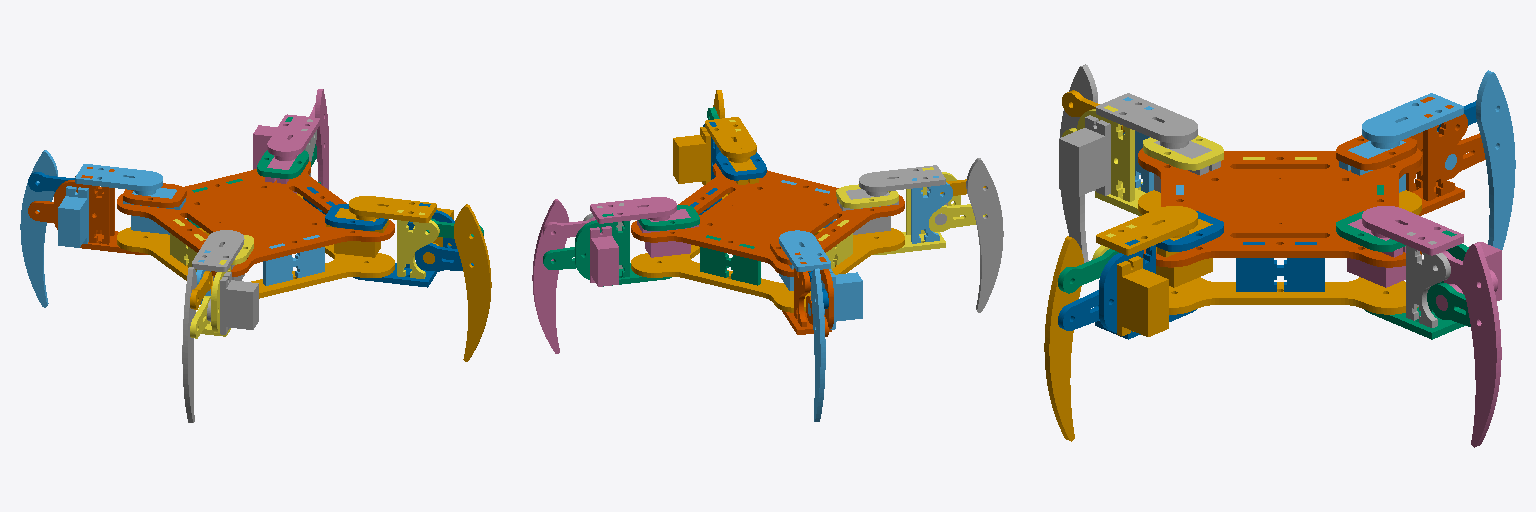
--- Render facts (derived) ---
The picture shows the robot from 3 angles, left to right: view 1: azimuth 30°, elevation 25°; view 2: azimuth 150°, elevation 25°; view 3: azimuth 270°, elevation 25°; orthographic projection.
Model quadruped with 46 links and 45 joints (24 continuous, 21 fixed), rooted at base_link, posed all joints at 0.
Visible links, largest first — view 1: body_top_plate_v11, base_link, leg_rev_v13, leg_rev_v14, servo_motor_v16, servo_motor_v18, leg_top_pivot_plate_v14, leg_top_pivot_plate_v13, body_spacer_v11, leg_parallel_plate_v13, leg_servo_mount_v14, leg_rev_v12 (+14 smaller); view 2: body_top_plate_v11, base_link, leg_rev_v12, leg_rev_v11, servo_motor_v17, leg_rev_v14, servo_motor_v15, leg_top_pivot_plate_v11, leg_top_pivot_plate_v12, leg_parallel_plate_v12, body_spacer_v12, leg_servo_mount_v11 (+14 smaller); view 3: body_top_plate_v11, base_link, leg_rev_v11, leg_rev_v14, leg_rev_v13, servo_motor_v16, servo_motor_v17, body_spacer_v14, leg_top_pivot_plate_v11, leg_top_pivot_plate_v13, leg_top_pivot_plate_v14, leg_top_pivot_plate_v12 (+22 smaller).
Link boxes in pixels (x1,y1,x2,y2): body_top_plate_v11: (117,161,394,276); base_link: (117,193,394,304); leg_rev_v13: (454,204,491,361); leg_rev_v14: (20,150,57,307); servo_motor_v16: (207,272,258,334); servo_motor_v18: (58,186,88,247); leg_top_pivot_plate_v14: (75,164,162,190); leg_top_pivot_plate_v13: (349,196,436,222); body_spacer_v11: (263,235,324,285); leg_parallel_plate_v13: (397,210,439,278); leg_servo_mount_v14: (54,175,109,244); leg_rev_v12: (182,267,196,422); body_top_plate_v11: (631,163,904,276); base_link: (631,194,904,312); leg_rev_v12: (966,158,1003,312); leg_rev_v11: (532,199,568,353); servo_motor_v17: (673,127,710,184); leg_rev_v14: (811,268,825,421); servo_motor_v15: (590,226,618,286); leg_top_pivot_plate_v11: (590,197,676,223); leg_top_pivot_plate_v12: (859,165,945,191); leg_parallel_plate_v12: (911,176,952,243); body_spacer_v12: (700,235,760,285); leg_servo_mount_v11: (575,213,629,279); body_top_plate_v11: (1138,148,1421,267); base_link: (1138,190,1421,314); leg_rev_v11: (1462,242,1501,447); leg_rev_v14: (1476,70,1515,249); leg_rev_v13: (1044,236,1083,441); servo_motor_v16: (1059,115,1110,196); servo_motor_v17: (1117,256,1168,336); body_spacer_v14: (1236,242,1324,291); leg_top_pivot_plate_v11: (1362,206,1463,255); leg_top_pivot_plate_v13: (1096,206,1197,255); leg_top_pivot_plate_v14: (1362,93,1463,142); leg_top_pivot_plate_v12: (1096,93,1197,142).
Bounding box of the posed robot: 0.2024 × 0.2023 × 0.0962 m (x, y, z).
Meshes: 46 distinct files referenced, 46 mesh visuals loaded (46 binary STL).

The robot description file, URDF, robot "quadruped":
<?xml version="1.0" ?>
<robot name="quadruped">

<material name="silver">
  <color rgba="0.700 0.700 0.700 1.000"/>
</material>

<link name="base_link">
  <inertial>
    <origin rpy="0 0 0" xyz="9.059146598001685e-07 0.0015934023756066099 0.049996155576494214"/>
    <mass value="0.1660035395213305"/>
    <inertia ixx="0.00025709826617585223" ixy="4.218846787590979e-09" ixz="1.879354351720479e-20" iyy="0.0002571008959510167" iyz="-3.5575383784680614e-20" izz="0.0005139180584769373"/>
  </inertial>
  <visual>
    <origin rpy="0 0 0" xyz="0 0 0"/>
    <geometry>
      <mesh filename="package://quadruped_description/meshes/base_link.stl" scale="0.001 0.001 0.001"/>
    </geometry>
    <material name="silver"/>
    <material/>
  </visual>
  <collision>
    <origin rpy="0 0 0" xyz="9.059146598001685e-07 0.0015934023756066099 0.049996155576494214"/>
    <geometry>
      <box size="0.113187997 0.113187997 0.003188"/>
    </geometry>
  </collision>
</link>

<link name="body_spacer_v11">
  <inertial>
    <origin rpy="0 0 0" xyz="-2.3037127760971997e-17 3.4442350579921843e-07 0.0019124056524901095"/>
    <mass value="0.01987438429408557"/>
    <inertia ixx="9.045460492552543e-07" ixy="1.187813172238301e-22" ixz="3.208094714967838e-22" iyy="3.5199940199070806e-06" iyz="1.3552527156068805e-20" izz="2.6491024456185857e-06"/>
  </inertial>
  <visual>
    <origin rpy="0 0 0" xyz="0.0 0.041434 -0.05924"/>
    <geometry>
      <mesh filename="package://quadruped_description/meshes/body_spacer_v11.stl" scale="0.001 0.001 0.001"/>
    </geometry>
    <material name="silver"/>
    <material/>
  </visual>
  <collision>
    <origin rpy="0 0 0" xyz="-2.3037127760971997e-17 3.4442350579921843e-07 0.0019124056524901095"/>
    <geometry>
      <box size="0.03825 0.003188 0.019125"/>
    </geometry>
  </collision>
</link>

<link name="body_spacer_v12">
  <inertial>
    <origin rpy="0 0 0" xyz="-1.762479051592436e-17 0.08606284442350577 0.0019124056524901373"/>
    <mass value="0.01987438429408557"/>
    <inertia ixx="9.045460492552407e-07" ixy="1.1536192923691965e-22" ixz="1.9841293516984235e-22" iyy="3.5199940199070806e-06" iyz="6.776263578034403e-21" izz="2.649102445618572e-06"/>
  </inertial>
  <visual>
    <origin rpy="0 0 0" xyz="0.0 0.041434 -0.05924"/>
    <geometry>
      <mesh filename="package://quadruped_description/meshes/body_spacer_v12.stl" scale="0.001 0.001 0.001"/>
    </geometry>
    <material name="silver"/>
    <material/>
  </visual>
  <collision>
    <origin rpy="0 0 0" xyz="-1.762479051592436e-17 0.08606284442350577 0.0019124056524901373"/>
    <geometry>
      <box size="0.03825 0.003188 0.019125"/>
    </geometry>
  </collision>
</link>

<link name="body_spacer_v13">
  <inertial>
    <origin rpy="0 0 0" xyz="-0.04303125000000001 0.04303159442350578 0.0019124056524901165"/>
    <mass value="0.01987438429408557"/>
    <inertia ixx="3.5199940199070806e-06" ixy="2.117582368135751e-22" ixz="-6.776263578034403e-21" iyy="9.045460492552678e-07" iyz="-1.2705494208814505e-21" izz="2.649102445618572e-06"/>
  </inertial>
  <visual>
    <origin rpy="0 0 0" xyz="0.0 0.041434 -0.05924"/>
    <geometry>
      <mesh filename="package://quadruped_description/meshes/body_spacer_v13.stl" scale="0.001 0.001 0.001"/>
    </geometry>
    <material name="silver"/>
    <material/>
  </visual>
  <collision>
    <origin rpy="0 0 0" xyz="-0.04303125000000001 0.04303159442350578 0.0019124056524901165"/>
    <geometry>
      <box size="0.003188 0.03825 0.019125"/>
    </geometry>
  </collision>
</link>

<link name="body_spacer_v14">
  <inertial>
    <origin rpy="0 0 0" xyz="0.04303124999999997 0.04303159442350577 0.0019124056524901165"/>
    <mass value="0.01987438429408557"/>
    <inertia ixx="3.5199940199070806e-06" ixy="4.235164736271502e-22" ixz="0.0" iyy="9.045460492552543e-07" iyz="-1.2705494208814505e-21" izz="2.6491024456185653e-06"/>
  </inertial>
  <visual>
    <origin rpy="0 0 0" xyz="0.0 0.041434 -0.05924"/>
    <geometry>
      <mesh filename="package://quadruped_description/meshes/body_spacer_v14.stl" scale="0.001 0.001 0.001"/>
    </geometry>
    <material name="silver"/>
    <material/>
  </visual>
  <collision>
    <origin rpy="0 0 0" xyz="0.04303124999999997 0.04303159442350577 0.0019124056524901165"/>
    <geometry>
      <box size="0.003188 0.03825 0.019125"/>
    </geometry>
  </collision>
</link>

<link name="body_top_plate_v11">
  <inertial>
    <origin rpy="0 0 0" xyz="-6.217287019304255e-06 -7.919011395336392e-07 -0.0015933444235057687"/>
    <mass value="0.2442521638475155"/>
    <inertia ixx="0.00024636058368875027" ixy="-1.5462840425163707e-08" ixz="3.801060350803673e-20" iyy="0.00023570693205579888" iyz="-2.0328790734103208e-20" izz="0.0004816539090530351"/>
  </inertial>
  <visual>
    <origin rpy="0 0 0" xyz="1e-05 -0.001603 -0.073902"/>
    <geometry>
      <mesh filename="package://quadruped_description/meshes/body_top_plate_v11.stl" scale="0.001 0.001 0.001"/>
    </geometry>
    <material name="silver"/>
    <material/>
  </visual>
  <collision>
    <origin rpy="0 0 0" xyz="-6.217287019304255e-06 -7.919011395336392e-07 -0.0015933444235057687"/>
    <geometry>
      <box size="0.113187997 0.113187997 0.003188"/>
    </geometry>
  </collision>
</link>

<link name="servo_motor_v11">
  <inertial>
    <origin rpy="0 0 0" xyz="-0.0034453069163115357 -0.003444709272821242 -0.017291510897469234"/>
    <mass value="0.008039754705757893"/>
    <inertia ixx="6.933505671789865e-07" ixy="-1.5816887278955772e-07" ixz="-3.5143282431257484e-08" iyy="6.933505682155583e-07" iyz="-3.514328063131586e-08" izz="5.198658008256423e-07"/>
  </inertial>
  <visual>
    <origin rpy="0 0 0" xyz="-0.045406 -0.047003 -0.088004"/>
    <geometry>
      <mesh filename="package://quadruped_description/meshes/servo_motor_v11.stl" scale="0.001 0.001 0.001"/>
    </geometry>
    <material name="silver"/>
    <material/>
  </visual>
  <collision>
    <origin rpy="0 0 0" xyz="-0.045406 -0.047003 -0.088004"/>
    <geometry>
      <mesh filename="package://quadruped_description/meshes/servo_motor_v11.stl" scale="0.001 0.001 0.001"/>
    </geometry>
  </collision>
</link>

<link name="servo_motor_v12">
  <inertial>
    <origin rpy="0 0 0" xyz="-0.08736671792043224 -0.08736325662822253 -0.017291510897469248"/>
    <mass value="0.008039754705757893"/>
    <inertia ixx="6.933505671789865e-07" ixy="-1.5816887278954925e-07" ixz="3.5143282431257484e-08" iyy="6.933505682155651e-07" iyz="3.514328063131247e-08" izz="5.198658008256288e-07"/>
  </inertial>
  <visual>
    <origin rpy="0 0 0" xyz="-0.045406 -0.047003 -0.088004"/>
    <geometry>
      <mesh filename="package://quadruped_description/meshes/servo_motor_v12.stl" scale="0.001 0.001 0.001"/>
    </geometry>
    <material name="silver"/>
    <material/>
  </visual>
  <collision>
    <origin rpy="0 0 0" xyz="-0.045406 -0.047003 -0.088004"/>
    <geometry>
      <mesh filename="package://quadruped_description/meshes/servo_motor_v12.stl" scale="0.001 0.001 0.001"/>
    </geometry>
  </collision>
</link>

<link name="servo_motor_v13">
  <inertial>
    <origin rpy="0 0 0" xyz="-0.0034453067361639236 -0.08736610170001957 -0.01729151089746929"/>
    <mass value="0.008039754705757893"/>
    <inertia ixx="6.933505682155583e-07" ixy="1.581688727895594e-07" ixz="-3.514328063131586e-08" iyy="6.933505671789865e-07" iyz="3.514328243126087e-08" izz="5.198658008256423e-07"/>
  </inertial>
  <visual>
    <origin rpy="0 0 0" xyz="-0.045406 -0.047003 -0.088004"/>
    <geometry>
      <mesh filename="package://quadruped_description/meshes/servo_motor_v13.stl" scale="0.001 0.001 0.001"/>
    </geometry>
    <material name="silver"/>
    <material/>
  </visual>
  <collision>
    <origin rpy="0 0 0" xyz="-0.045406 -0.047003 -0.088004"/>
    <geometry>
      <mesh filename="package://quadruped_description/meshes/servo_motor_v13.stl" scale="0.001 0.001 0.001"/>
    </geometry>
  </collision>
</link>

<link name="servo_motor_v14">
  <inertial>
    <origin rpy="0 0 0" xyz="-0.08736671810057986 -0.0035677266622682127 -0.017291510897469248"/>
    <mass value="0.008039754705757893"/>
    <inertia ixx="6.933505682155447e-07" ixy="1.5816887278955433e-07" ixz="3.514328063131586e-08" iyy="6.933505671789865e-07" iyz="-3.5143282431257484e-08" izz="5.198658008256389e-07"/>
  </inertial>
  <visual>
    <origin rpy="0 0 0" xyz="-0.045406 -0.047003 -0.088004"/>
    <geometry>
      <mesh filename="package://quadruped_description/meshes/servo_motor_v14.stl" scale="0.001 0.001 0.001"/>
    </geometry>
    <material name="silver"/>
    <material/>
  </visual>
  <collision>
    <origin rpy="0 0 0" xyz="-0.045406 -0.047003 -0.088004"/>
    <geometry>
      <mesh filename="package://quadruped_description/meshes/servo_motor_v14.stl" scale="0.001 0.001 0.001"/>
    </geometry>
  </collision>
</link>

<link name="leg_servo_retainer_v11">
  <inertial>
    <origin rpy="0 0 0" xyz="0.007924108380789864 0.007923419580222718 -3.4442350579921843e-07"/>
    <mass value="0.011735752466802122"/>
    <inertia ixx="1.0587162227223e-06" ixy="-2.4853849465264854e-07" ixz="-6.776263578034403e-21" iyy="1.0584789299731293e-06" iyz="0.0" izz="2.0973223062330845e-06"/>
  </inertial>
  <visual>
    <origin rpy="0 0 0" xyz="-0.033325 -0.034922 -0.078684"/>
    <geometry>
      <mesh filename="package://quadruped_description/meshes/leg_servo_retainer_v11.stl" scale="0.001 0.001 0.001"/>
    </geometry>
    <material name="silver"/>
    <material/>
  </visual>
  <collision>
    <origin rpy="0 0 0" xyz="-0.033325 -0.034922 -0.078684"/>
    <geometry>
      <mesh filename="package://quadruped_description/meshes/leg_servo_retainer_v11.stl" scale="0.001 0.001 0.001"/>
    </geometry>
  </collision>
</link>

<link name="leg_servo_retainer_v12">
  <inertial>
    <origin rpy="0 0 0" xyz="-0.07457413321753362 -0.07456938548126654 -3.444235058408518e-07"/>
    <mass value="0.011735752466802122"/>
    <inertia ixx="1.0587162227223136e-06" ixy="-2.485384946526519e-07" ixz="0.0" iyy="1.0584789299731293e-06" iyz="-6.776263578034403e-21" izz="2.0973223062330845e-06"/>
  </inertial>
  <visual>
    <origin rpy="0 0 0" xyz="-0.033325 -0.034922 -0.078684"/>
    <geometry>
      <mesh filename="package://quadruped_description/meshes/leg_servo_retainer_v12.stl" scale="0.001 0.001 0.001"/>
    </geometry>
    <material name="silver"/>
    <material/>
  </visual>
  <collision>
    <origin rpy="0 0 0" xyz="-0.033325 -0.034922 -0.078684"/>
    <geometry>
      <mesh filename="package://quadruped_description/meshes/leg_servo_retainer_v12.stl" scale="0.001 0.001 0.001"/>
    </geometry>
  </collision>
</link>

<link name="leg_servo_retainer_v13">
  <inertial>
    <origin rpy="0 0 0" xyz="0.007922822116880023 -0.07457351699712099 -3.444235058547296e-07"/>
    <mass value="0.011735752466802122"/>
    <inertia ixx="1.0584789299731428e-06" ixy="2.485384946526519e-07" ixz="0.0" iyy="1.0587162227222865e-06" iyz="-6.776263578034403e-21" izz="2.0973223062330912e-06"/>
  </inertial>
  <visual>
    <origin rpy="0 0 0" xyz="-0.033325 -0.034922 -0.078684"/>
    <geometry>
      <mesh filename="package://quadruped_description/meshes/leg_servo_retainer_v13.stl" scale="0.001 0.001 0.001"/>
    </geometry>
    <material name="silver"/>
    <material/>
  </visual>
  <collision>
    <origin rpy="0 0 0" xyz="-0.033325 -0.034922 -0.078684"/>
    <geometry>
      <mesh filename="package://quadruped_description/meshes/leg_servo_retainer_v13.stl" scale="0.001 0.001 0.001"/>
    </geometry>
  </collision>
</link>

<link name="leg_servo_retainer_v14">
  <inertial>
    <origin rpy="0 0 0" xyz="-0.07457284695362379 0.007801688634833152 -3.444235058130962e-07"/>
    <mass value="0.011735752466802122"/>
    <inertia ixx="1.0584789299731157e-06" ixy="2.4853849465264515e-07" ixz="0.0" iyy="1.0587162227222594e-06" iyz="0.0" izz="2.0973223062330777e-06"/>
  </inertial>
  <visual>
    <origin rpy="0 0 0" xyz="-0.033325 -0.034922 -0.078684"/>
    <geometry>
      <mesh filename="package://quadruped_description/meshes/leg_servo_retainer_v14.stl" scale="0.001 0.001 0.001"/>
    </geometry>
    <material name="silver"/>
    <material/>
  </visual>
  <collision>
    <origin rpy="0 0 0" xyz="-0.033325 -0.034922 -0.078684"/>
    <geometry>
      <mesh filename="package://quadruped_description/meshes/leg_servo_retainer_v14.stl" scale="0.001 0.001 0.001"/>
    </geometry>
  </collision>
</link>

<link name="leg_top_pivot_plate_v11">
  <inertial>
    <origin rpy="0 0 0" xyz="0.010648424399168653 0.010577698071700968 -0.0015938444235058108"/>
    <mass value="0.020723046160568363"/>
    <inertia ixx="2.208794909615877e-06" ixy="-1.4903944877974097e-06" ixz="-2.710505431213761e-20" iyy="2.2591948027366653e-06" iyz="-1.3552527156068805e-20" izz="4.432898147857994e-06"/>
  </inertial>
  <visual>
    <origin rpy="0 0 0" xyz="-0.045406 -0.047003 -0.088004"/>
    <geometry>
      <mesh filename="package://quadruped_description/meshes/leg_top_pivot_plate_v11.stl" scale="0.001 0.001 0.001"/>
    </geometry>
    <material name="silver"/>
    <material/>
  </visual>
  <collision>
    <origin rpy="0 0 0.785398163" xyz="0.010648424399168653 0.010577698071700968 -0.0015938444235058108"/>
    <geometry>
     <box size="0.048442 0.02040  0.003188"/>
    </geometry>
  </collision>
</link>

<link name="leg_top_pivot_plate_v12">
  <inertial>
    <origin rpy="0 0 0" xyz="-0.10146044923591255 -0.1013856639727447 -0.0015938444235058524"/>
    <mass value="0.020723046160568363"/>
    <inertia ixx="2.2087949096158226e-06" ixy="-1.4903944877974097e-06" ixz="-2.710505431213761e-20" iyy="2.259194802736557e-06" iyz="-1.3552527156068805e-20" izz="4.432898147857967e-06"/>
  </inertial>
  <visual>
    <origin rpy="0 0 0" xyz="-0.045406 -0.047003 -0.088004"/>
    <geometry>
      <mesh filename="package://quadruped_description/meshes/leg_top_pivot_plate_v12.stl" scale="0.001 0.001 0.001"/>
    </geometry>
    <material name="silver"/>
    <material/>
  </visual>
  <collision>
    <origin rpy="0 0 0.785398163" xyz="-0.10146044923591255 -0.1013856639727447 -0.0015938444235058524"/>
    <geometry>
      <box size="0.048442 0.02040  0.003188"/>
    </geometry>
  </collision>
</link>

<link name="leg_top_pivot_plate_v13">
  <inertial>
    <origin rpy="0 0 0" xyz="0.010577100608358335 -0.10145983301549982 -0.001593844423505894"/>
    <mass value="0.020723046160568363"/>
    <inertia ixx="2.2591948027366653e-06" ixy="1.4903944877974233e-06" ixz="0.0" iyy="2.208794909615931e-06" iyz="0.0" izz="4.432898147857967e-06"/>
  </inertial>
  <visual>
    <origin rpy="0 0 0" xyz="-0.045406 -0.047003 -0.088004"/>
    <geometry>
      <mesh filename="package://quadruped_description/meshes/leg_top_pivot_plate_v13.stl" scale="0.001 0.001 0.001"/>
    </geometry>
    <material name="silver"/>
    <material/>
  </visual>
  <collision>
    <origin rpy="0 0 -0.785398163" xyz="0.010577100608358335 -0.10145983301549982 -0.001593844423505894"/>
    <geometry>
      <box size="0.048442 0.02040  0.003188"/>
    </geometry>
  </collision>
</link>

<link name="leg_top_pivot_plate_v14">
  <inertial>
    <origin rpy="0 0 0" xyz="-0.10138912544510212 0.010526004653212018 -0.0015938444235058247"/>
    <mass value="0.020723046160568363"/>
    <inertia ixx="2.2591948027367195e-06" ixy="1.4903944877974233e-06" ixz="2.710505431213761e-20" iyy="2.208794909615931e-06" iyz="0.0" izz="4.432898147857994e-06"/>
  </inertial>
  <visual>
    <origin rpy="0 0 0" xyz="-0.045406 -0.047003 -0.088004"/>
    <geometry>
      <mesh filename="package://quadruped_description/meshes/leg_top_pivot_plate_v14.stl" scale="0.001 0.001 0.001"/>
    </geometry>
    <material name="silver"/>
    <material/>
  </visual>
  <collision>
    <origin rpy="0 0 -0.785398163" xyz="-0.10138912544510212 0.010526004653212018 -0.0015938444235058247"/>
    <geometry>
      <box size="0.048442 0.02040  0.003188"/>
    </geometry>
  </collision>
</link>

<link name="leg_servo_mount_v11">
  <inertial>
    <origin rpy="0 0 0" xyz="0.006427091482037052 0.006426612462751641 -0.009351515125044133"/>
    <mass value="0.018978192167657257"/>
    <inertia ixx="3.4099288150504596e-06" ixy="-8.932533906415378e-07" ixz="-2.5996070057598855e-08" iyy="3.4099288150504867e-06" iyz="-2.599607005762596e-08" izz="1.818643680910739e-06"/>
  </inertial>
  <visual>
    <origin rpy="0 0 0" xyz="-0.058289 -0.069083 -0.076529"/>
    <geometry>
      <mesh filename="package://quadruped_description/meshes/leg_servo_mount_v11.stl" scale="0.001 0.001 0.001"/>
    </geometry>
    <material name="silver"/>
    <material/>
  </visual>
  <collision>
    <origin rpy="0 0 0" xyz="-0.058289 -0.069083 -0.076529"/>
    <geometry>
      <mesh filename="package://quadruped_description/meshes/leg_servo_mount_v11.stl" scale="0.001 0.001 0.001"/>
    </geometry>
  </collision>
</link>

<link name="leg_servo_mount_v12">
  <inertial>
    <origin rpy="0 0 0" xyz="-0.12300511631878094 -0.14139457836379538 -0.009351515125044202"/>
    <mass value="0.018978192167657257"/>
    <inertia ixx="3.4099288150504867e-06" ixy="-8.932533906415378e-07" ixz="2.5996070057612407e-08" iyy="3.4099288150504596e-06" iyz="2.599607005762596e-08" izz="1.818643680910739e-06"/>
  </inertial>
  <visual>
    <origin rpy="0 0 0" xyz="-0.058289 -0.069083 -0.076529"/>
    <geometry>
      <mesh filename="package://quadruped_description/meshes/leg_servo_mount_v12.stl" scale="0.001 0.001 0.001"/>
    </geometry>
    <material name="silver"/>
    <material/>
  </visual>
  <collision>
    <origin rpy="0 0 0" xyz="-0.058289 -0.069083 -0.076529"/>
    <geometry>
      <mesh filename="package://quadruped_description/meshes/leg_servo_mount_v12.stl" scale="0.001 0.001 0.001"/>
    </geometry>
  </collision>
</link>

<link name="leg_servo_mount_v13">
  <inertial>
    <origin rpy="0 0 0" xyz="0.015623014999408984 -0.13220150009836815 -0.009351515125044257"/>
    <mass value="0.018978192167657257"/>
    <inertia ixx="3.4099288150504325e-06" ixy="8.932533906415242e-07" ixz="-2.5996070057612407e-08" iyy="3.4099288150504596e-06" iyz="2.5996070057612407e-08" izz="1.818643680910739e-06"/>
  </inertial>
  <visual>
    <origin rpy="0 0 0" xyz="-0.058289 -0.069083 -0.076529"/>
    <geometry>
      <mesh filename="package://quadruped_description/meshes/leg_servo_mount_v13.stl" scale="0.001 0.001 0.001"/>
    </geometry>
    <material name="silver"/>
    <material/>
  </visual>
  <collision>
    <origin rpy="0 0 0" xyz="-0.058289 -0.069083 -0.076529"/>
    <geometry>
      <mesh filename="package://quadruped_description/meshes/leg_servo_mount_v13.stl" scale="0.001 0.001 0.001"/>
    </geometry>
  </collision>
</link>

<link name="leg_servo_mount_v14">
  <inertial>
    <origin rpy="0 0 0" xyz="-0.132201039836153 -0.002892328263919511 -0.009351515125044133"/>
    <mass value="0.018978192167657257"/>
    <inertia ixx="3.4099288150504867e-06" ixy="8.932533906415242e-07" ixz="2.5996070057639513e-08" iyy="3.4099288150504867e-06" iyz="-2.5996070057639513e-08" izz="1.818643680910712e-06"/>
  </inertial>
  <visual>
    <origin rpy="0 0 0" xyz="-0.058289 -0.069083 -0.076529"/>
    <geometry>
      <mesh filename="package://quadruped_description/meshes/leg_servo_mount_v14.stl" scale="0.001 0.001 0.001"/>
    </geometry>
    <material name="silver"/>
    <material/>
  </visual>
  <collision>
    <origin rpy="0 0 0" xyz="-0.058289 -0.069083 -0.076529"/>
    <geometry>
      <mesh filename="package://quadruped_description/meshes/leg_servo_mount_v14.stl" scale="0.001 0.001 0.001"/>
    </geometry>
  </collision>
</link>

<link name="servo_motor_v15">
  <inertial>
    <origin rpy="0 0 0" xyz="0.027946655456124396 0.04841610817225183 -0.013934864453551216"/>
    <mass value="0.008039754705757893"/>
    <inertia ixx="6.856926219289921e-07" ixy="1.658268198306015e-07" ixz="3.5143281164800927e-08" iyy="6.856926193835023e-07" iyz="-3.5143281897775805e-08" izz="5.351816949077299e-07"/>
  </inertial>
  <visual>
    <origin rpy="0 0 0" xyz="-0.033325 -0.034922 -0.078684"/>
    <geometry>
      <mesh filename="package://quadruped_description/meshes/servo_motor_v15.stl" scale="0.001 0.001 0.001"/>
    </geometry>
    <material name="silver"/>
    <material/>
  </visual>
  <collision>
    <origin rpy="0 0 0" xyz="-0.033325 -0.034922 -0.078684"/>
    <geometry>
      <mesh filename="package://quadruped_description/meshes/servo_motor_v15.stl" scale="0.001 0.001 0.001"/>
    </geometry>
  </collision>
</link>

<link name="servo_motor_v16">
  <inertial>
    <origin rpy="0 0 0" xyz="-0.09459668029286844 -0.11506207407329555 -0.013934864453551313"/>
    <mass value="0.008039754705757893"/>
    <inertia ixx="6.856926219289921e-07" ixy="1.6582681983059474e-07" ixz="-3.5143281164800927e-08" iyy="6.856926193834752e-07" iyz="3.514328189776225e-08" izz="5.351816949077164e-07"/>
  </inertial>
  <visual>
    <origin rpy="0 0 0" xyz="-0.033325 -0.034922 -0.078684"/>
    <geometry>
      <mesh filename="package://quadruped_description/meshes/servo_motor_v16.stl" scale="0.001 0.001 0.001"/>
    </geometry>
    <material name="silver"/>
    <material/>
  </visual>
  <collision>
    <origin rpy="0 0 0" xyz="-0.033325 -0.034922 -0.078684"/>
    <geometry>
      <mesh filename="package://quadruped_description/meshes/servo_motor_v16.stl" scale="0.001 0.001 0.001"/>
    </geometry>
  </collision>
</link>

<link name="servo_motor_v17">
  <inertial>
    <origin rpy="0 0 0" xyz="0.048415510708909044 -0.09459606407245555 -0.013934864453551354"/>
    <mass value="0.008039754705757893"/>
    <inertia ixx="6.856926193835023e-07" ixy="-1.658268198306015e-07" ixz="-3.514328189776225e-08" iyy="6.85692621928965e-07" iyz="-3.5143281164800927e-08" izz="5.351816949077028e-07"/>
  </inertial>
  <visual>
    <origin rpy="0 0 0" xyz="-0.033325 -0.034922 -0.078684"/>
    <geometry>
      <mesh filename="package://quadruped_description/meshes/servo_motor_v17.stl" scale="0.001 0.001 0.001"/>
    </geometry>
    <material name="silver"/>
    <material/>
  </visual>
  <collision>
    <origin rpy="0 0 0" xyz="-0.033325 -0.034922 -0.078684"/>
    <geometry>
      <mesh filename="package://quadruped_description/meshes/servo_motor_v17.stl" scale="0.001 0.001 0.001"/>
    </geometry>
  </collision>
</link>

<link name="servo_motor_v18">
  <inertial>
    <origin rpy="0 0 0" xyz="-0.11506553554565327 0.027824235710167892 -0.013934864453551118"/>
    <mass value="0.008039754705757893"/>
    <inertia ixx="6.856926193834752e-07" ixy="-1.658268198306015e-07" ixz="3.514328189778258e-08" iyy="6.856926219289921e-07" iyz="3.5143281164800927e-08" izz="5.351816949077164e-07"/>
  </inertial>
  <visual>
    <origin rpy="0 0 0" xyz="-0.033325 -0.034922 -0.078684"/>
    <geometry>
      <mesh filename="package://quadruped_description/meshes/servo_motor_v18.stl" scale="0.001 0.001 0.001"/>
    </geometry>
    <material name="silver"/>
    <material/>
  </visual>
  <collision>
    <origin rpy="0 0 0" xyz="-0.033325 -0.034922 -0.078684"/>
    <geometry>
      <mesh filename="package://quadruped_description/meshes/servo_motor_v18.stl" scale="0.001 0.001 0.001"/>
    </geometry>
  </collision>
</link>

<link name="leg_servo_arm_v11">
  <inertial>
    <origin rpy="0 0 0" xyz="0.006854663369280534 0.009109263260319467 4.051724359702136e-07"/>
    <mass value="0.01005919143698447"/>
    <inertia ixx="7.37904947339249e-07" ixy="-5.760670437510195e-07" ixz="8.610598128608316e-17" iyy="7.379049473392083e-07" iyz="8.609242875892709e-17" izz="1.1691679136267982e-06"/>
  </inertial>
  <visual>
    <origin rpy="0 0 0" xyz="-0.073499 -0.071111 -0.059877"/>
    <geometry>
      <mesh filename="package://quadruped_description/meshes/leg_servo_arm_v11.stl" scale="0.001 0.001 0.001"/>
    </geometry>
    <material name="silver"/>
    <material/>
  </visual>
  <collision>
    <origin rpy="0 0 0" xyz="-0.073499 -0.071111 -0.059877"/>
    <geometry>
      <mesh filename="package://quadruped_description/meshes/leg_servo_arm_v11.stl" scale="0.001 0.001 0.001"/>
    </geometry>
  </collision>
</link>

<link name="leg_servo_arm_v12">
  <inertial>
    <origin rpy="0 0 0" xyz="-0.1515986882060246 -0.15038722916136313 4.051727157394769e-07"/>
    <mass value="0.01005919143698447"/>
    <inertia ixx="7.379049473392219e-07" ixy="-5.76067043751006e-07" ixz="8.609242875892709e-17" iyy="7.379049473392219e-07" iyz="8.609920502250512e-17" izz="1.169167913626771e-06"/>
  </inertial>
  <visual>
    <origin rpy="0 0 0" xyz="-0.071245 -0.073365 -0.059877"/>
    <geometry>
      <mesh filename="package://quadruped_description/meshes/leg_servo_arm_v12.stl" scale="0.001 0.001 0.001"/>
    </geometry>
    <material name="silver"/>
    <material/>
  </visual>
  <collision>
    <origin rpy="0 0 0" xyz="-0.071245 -0.073365 -0.059877"/>
    <geometry>
      <mesh filename="package://quadruped_description/meshes/leg_servo_arm_v12.stl" scale="0.001 0.001 0.001"/>
    </geometry>
  </collision>
</link>

<link name="leg_servo_arm_v13">
  <inertial>
    <origin rpy="0 0 0" xyz="0.0073776657969769205 -0.1521210719856115 4.051727155868212e-07"/>
    <mass value="0.01005919143698447"/>
    <inertia ixx="7.379049473391948e-07" ixy="5.760670437510195e-07" ixz="-8.609920502250512e-17" iyy="7.37904947339249e-07" iyz="8.609920502250512e-17" izz="1.169167913626771e-06"/>
  </inertial>
  <visual>
    <origin rpy="0 0 0" xyz="-0.071245 -0.073365 -0.059877"/>
    <geometry>
      <mesh filename="package://quadruped_description/meshes/leg_servo_arm_v13.stl" scale="0.001 0.001 0.001"/>
    </geometry>
    <material name="silver"/>
    <material/>
  </visual>
  <collision>
    <origin rpy="0 0 0" xyz="-0.071245 -0.073365 -0.059877"/>
    <geometry>
      <mesh filename="package://quadruped_description/meshes/leg_servo_arm_v13.stl" scale="0.001 0.001 0.001"/>
    </geometry>
  </collision>
</link>

<link name="leg_servo_arm_v14">
  <inertial>
    <origin rpy="0 0 0" xyz="-0.15212169063372105 0.01071724362332406 4.0517243608817477e-07"/>
    <mass value="0.01005919143698447"/>
    <inertia ixx="7.379049473392083e-07" ixy="5.760670437510195e-07" ixz="-8.609920502250512e-17" iyy="7.379049473392219e-07" iyz="8.609920502250512e-17" izz="1.169167913626771e-06"/>
  </inertial>
  <visual>
    <origin rpy="0 0 0" xyz="-0.073499 -0.071111 -0.059877"/>
    <geometry>
      <mesh filename="package://quadruped_description/meshes/leg_servo_arm_v14.stl" scale="0.001 0.001 0.001"/>
    </geometry>
    <material name="silver"/>
    <material/>
  </visual>
  <collision>
    <origin rpy="0 0 0" xyz="-0.073499 -0.071111 -0.059877"/>
    <geometry>
      <mesh filename="package://quadruped_description/meshes/leg_servo_arm_v14.stl" scale="0.001 0.001 0.001"/>
    </geometry>
  </collision>
</link>

<link name="leg_rev_v11">
  <inertial>
    <origin rpy="0 0 0" xyz="0.0017515473433343115 -0.0003754399481460391 -0.0070623052238462936"/>
    <mass value="0.02607369115545735"/>
    <inertia ixx="1.5004588508372942e-05" ixy="-2.7879896393143166e-07" ixz="6.744760153939999e-07" iyy="1.5004588508373104e-05" iyz="6.744760153939863e-07" izz="5.96943480288205e-07"/>
  </inertial>
  <visual>
    <origin rpy="0 0 0" xyz="-0.09153 -0.089142 -0.059877"/>
    <geometry>
      <mesh filename="package://quadruped_description/meshes/leg_rev_v11.stl" scale="0.001 0.001 0.001"/>
    </geometry>
    <material name="silver"/>
    <material/>
  </visual>
  <collision>
    <origin rpy="0 0 0" xyz="-0.09153 -0.089142 -0.059877"/>
    <geometry>
      <mesh filename="package://quadruped_description/meshes/leg_rev_v11.stl" scale="0.001 0.001 0.001"/>
    </geometry>
  </collision>
</link>

<link name="leg_rev_v12">
  <inertial>
    <origin rpy="0 0 0" xyz="-0.1848115721800784 -0.1747105259528976 -0.0070623052238461825"/>
    <mass value="0.02607369115545735"/>
    <inertia ixx="1.5004588508372942e-05" ixy="-2.7879896393148587e-07" ixz="-6.744760153939728e-07" iyy="1.5004588508373104e-05" iyz="-6.744760153939592e-07" izz="5.96943480288205e-07"/>
  </inertial>
  <visual>
    <origin rpy="0 0 0" xyz="-0.09153 -0.089142 -0.059877"/>
    <geometry>
      <mesh filename="package://quadruped_description/meshes/leg_rev_v12.stl" scale="0.001 0.001 0.001"/>
    </geometry>
    <material name="silver"/>
    <material/>
  </visual>
  <collision>
    <origin rpy="0 0 0" xyz="-0.09153 -0.089142 -0.059877"/>
    <geometry>
      <mesh filename="package://quadruped_description/meshes/leg_rev_v12.stl" scale="0.001 0.001 0.001"/>
    </geometry>
  </collision>
</link>

<link name="leg_rev_v13">
  <inertial>
    <origin rpy="0 0 0" xyz="-0.004361037411488508 -0.18082595595966508 -0.0070623052238464185"/>
    <mass value="0.02607369115545735"/>
    <inertia ixx="1.5004588508373213e-05" ixy="2.7879896393145876e-07" ixz="6.744760153938508e-07" iyy="1.5004588508372942e-05" iyz="-6.744760153938915e-07" izz="5.969434802882592e-07"/>
  </inertial>
  <visual>
    <origin rpy="0 0 0" xyz="-0.09153 -0.089142 -0.059877"/>
    <geometry>
      <mesh filename="package://quadruped_description/meshes/leg_rev_v13.stl" scale="0.001 0.001 0.001"/>
    </geometry>
    <material name="silver"/>
    <material/>
  </visual>
  <collision>
    <origin rpy="0 0 0" xyz="-0.09153 -0.089142 -0.059877"/>
    <geometry>
      <mesh filename="package://quadruped_description/meshes/leg_rev_v13.stl" scale="0.001 0.001 0.001"/>
    </geometry>
  </collision>
</link>

<link name="leg_rev_v14">
  <inertial>
    <origin rpy="0 0 0" xyz="-0.17869898742525542 0.005614127597377852 -0.007062305223845974"/>
    <mass value="0.02607369115545735"/>
    <inertia ixx="1.5004588508373267e-05" ixy="2.787989639315672e-07" ixz="-6.74476015394027e-07" iyy="1.5004588508372887e-05" iyz="6.744760153939457e-07" izz="5.969434802883134e-07"/>
  </inertial>
  <visual>
    <origin rpy="0 0 0" xyz="-0.09153 -0.089142 -0.059877"/>
    <geometry>
      <mesh filename="package://quadruped_description/meshes/leg_rev_v14.stl" scale="0.001 0.001 0.001"/>
    </geometry>
    <material name="silver"/>
    <material/>
  </visual>
  <collision>
    <origin rpy="0 0 0" xyz="-0.09153 -0.089142 -0.059877"/>
    <geometry>
      <mesh filename="package://quadruped_description/meshes/leg_rev_v14.stl" scale="0.001 0.001 0.001"/>
    </geometry>
  </collision>
</link>

<link name="bottom_pivot_plate_v11">
  <inertial>
    <origin rpy="0 0 0" xyz="0.01000675765330758 0.010047118194641713 -0.0015933444235057687"/>
    <mass value="0.02183354723813213"/>
    <inertia ixx="2.3227089177674888e-06" ixy="-1.578481244283238e-06" ixz="-1.3552527156068805e-20" iyy="2.326148215223492e-06" iyz="-6.776263578034403e-21" izz="4.611885091085777e-06"/>
  </inertial>
  <visual>
    <origin rpy="0 0 0" xyz="-0.045406 -0.047003 -0.048402"/>
    <geometry>
      <mesh filename="package://quadruped_description/meshes/bottom_pivot_plate_v11.stl" scale="0.001 0.001 0.001"/>
    </geometry>
    <material name="silver"/>
    <material/>
  </visual>
  <collision>
    <origin rpy="0 0 0.785398163" xyz="0.01000675765330758 0.010047118194641713 -0.0015933444235057687"/>
    <geometry>
      <box size="0.048442 0.02040  0.003188"/>
    </geometry>
  </collision>
</link>

<link name="bottom_pivot_plate_v12">
  <inertial>
    <origin rpy="0 0 0" xyz="-0.10081878249005136 -0.10085508409568551 -0.0015933444235059352"/>
    <mass value="0.02183354723813213"/>
    <inertia ixx="2.3227089177674752e-06" ixy="-1.578481244283211e-06" ixz="-3.3881317890172014e-20" iyy="2.3261482152234784e-06" iyz="-2.710505431213761e-20" izz="4.61188509108575e-06"/>
  </inertial>
  <visual>
    <origin rpy="0 0 0" xyz="-0.045406 -0.047003 -0.048402"/>
    <geometry>
      <mesh filename="package://quadruped_description/meshes/bottom_pivot_plate_v12.stl" scale="0.001 0.001 0.001"/>
    </geometry>
    <material name="silver"/>
    <material/>
  </visual>
  <collision>
    <origin rpy="0 0 0.785398163" xyz="-0.10081878249005136 -0.10085508409568551 -0.0015933444235059352"/>
    <geometry>
      <box size="0.048442 0.02040  0.003188"/>
    </geometry>
  </collision>
</link>

<link name="bottom_pivot_plate_v13">
  <inertial>
    <origin rpy="0 0 0" xyz="0.010046520731299052 -0.10081816626963866 -0.0015933444235056785"/>
    <mass value="0.02183354723813213"/>
    <inertia ixx="2.3261482152234784e-06" ixy="1.578481244283211e-06" ixz="-2.710505431213761e-20" iyy="2.3227089177675023e-06" iyz="2.710505431213761e-20" izz="4.611885091085723e-06"/>
  </inertial>
  <visual>
    <origin rpy="0 0 0" xyz="-0.045406 -0.047003 -0.048402"/>
    <geometry>
      <mesh filename="package://quadruped_description/meshes/bottom_pivot_plate_v13.stl" scale="0.001 0.001 0.001"/>
    </geometry>
    <material name="silver"/>
    <material/>
  </visual>
  <collision>
    <origin rpy="0 0 -0.785398163" xyz="0.010046520731299052 -0.10081816626963866 -0.0015933444235056785"/>
    <geometry>
      <box size="0.048442 0.02040  0.003188"/>
    </geometry>
  </collision>
</link>

<link name="bottom_pivot_plate_v14">
  <inertial>
    <origin rpy="0 0 0" xyz="-0.10085854556804302 0.009884337907350833 -0.0015933444235043462"/>
    <mass value="0.02183354723813213"/>
    <inertia ixx="2.326148215223465e-06" ixy="1.5784812442831974e-06" ixz="3.2526065174565133e-19" iyy="2.3227089177674617e-06" iyz="-2.371692252312041e-19" izz="4.61188509108575e-06"/>
  </inertial>
  <visual>
    <origin rpy="0 0 0" xyz="-0.045406 -0.047003 -0.048402"/>
    <geometry>
      <mesh filename="package://quadruped_description/meshes/bottom_pivot_plate_v14.stl" scale="0.001 0.001 0.001"/>
    </geometry>
    <material name="silver"/>
    <material/>
  </visual>
  <collision>
    <origin rpy="0 0 -0.785398163" xyz="-0.10085854556804302 0.009884337907350833 -0.0015933444235043462"/>
    <geometry>
      <box size="0.048442 0.02040  0.003188"/>
    </geometry>
  </collision>
</link>

<link name="leg_parallel_linkage_v11">
  <inertial>
    <origin rpy="0 0 0" xyz="-0.01014265742637048 -0.007889057535331243 -5.5744720088138355e-05"/>
    <mass value="0.00766074441602388"/>
    <inertia ixx="4.803493674771365e-07" ixy="-4.1813467774842706e-07" ixz="-2.4283040679434157e-09" iyy="4.803493674771907e-07" iyz="-2.428304067950192e-09" izz="8.492417488732034e-07"/>
  </inertial>
  <visual>
    <origin rpy="0 0 0" xyz="-0.09153 -0.089143 -0.077727"/>
    <geometry>
      <mesh filename="package://quadruped_description/meshes/leg_parallel_linkage_v11.stl" scale="0.001 0.001 0.001"/>
    </geometry>
    <material name="silver"/>
    <material/>
  </visual>
  <collision>
    <origin rpy="0 0 0" xyz="-0.09153 -0.089143 -0.077727"/>
    <geometry>
      <mesh filename="package://quadruped_description/meshes/leg_parallel_linkage_v11.stl" scale="0.001 0.001 0.001"/>
    </geometry>
  </collision>
</link>

<link name="leg_parallel_plate_v11">
  <inertial>
    <origin rpy="0 0 0" xyz="-0.004995391768741642 -0.007248720766343711 -0.008862222322955887"/>
    <mass value="0.014417433544657016"/>
    <inertia ixx="2.1697871012962757e-06" ixy="-2.761349788279961e-07" ixz="-1.8802402014866872e-07" iyy="2.1697871012962757e-06" iyz="-1.8802402014865517e-07" izz="5.766838539122889e-07"/>
  </inertial>
  <visual>
    <origin rpy="0 0 0" xyz="-0.074112 -0.070498 -0.077616"/>
    <geometry>C
      <mesh filename="package://quadruped_description/meshes/leg_parallel_plate_v11.stl" scale="0.001 0.001 0.001"/>
    </geometry>
    <material name="silver"/>
    <material/>
  </visual>
  <collision>
    <origin rpy="0 0 0.785398163" xyz="-0.007137392 -0.009390721 -0.011004222"/>
    <geometry>
      <box size="0.024137 0.003188 0.036414"/>
    </geometry>
  </collision>
</link>

<link name="leg_parallel_linkage_v12">
  <inertial>
    <origin rpy="0 0 0" xyz="-0.17066336741037053 -0.1694519083657091 -5.5744719077946425e-05"/>
    <mass value="0.00766074441602388"/>
    <inertia ixx="4.803493674771636e-07" ixy="-4.1813467774843384e-07" ixz="2.4283040679434157e-09" iyy="4.803493674771501e-07" iyz="2.4283040679366394e-09" izz="8.492417488732169e-07"/>
  </inertial>
  <visual>
    <origin rpy="0 0 0" xyz="-0.089276 -0.091396 -0.077727"/>
    <geometry>
      <mesh filename="package://quadruped_description/meshes/leg_parallel_linkage_v12.stl" scale="0.001 0.001 0.001"/>
    </geometry>
    <material name="silver"/>
    <material/>
  </visual>
  <collision>
   <origin rpy="0 0 0" xyz="-0.089276 -0.091396 -0.077727"/>
    <geometry>
      <mesh filename="package://quadruped_description/meshes/leg_parallel_linkage_v12.stl" scale="0.001 0.001 0.001"/>
    </geometry>
  </collision>
</link>

<link name="leg_parallel_plate_v12">
  <inertial>
    <origin rpy="0 0 0" xyz="-0.14322863306800285 -0.13054924513469937 -0.008862222322955901"/>
    <mass value="0.014417433544657016"/>
    <inertia ixx="2.169787101296262e-06" ixy="-2.7613497882801645e-07" ixz="1.8802402014866872e-07" iyy="2.1697871012962486e-06" iyz="1.8802402014866872e-07" izz="5.766838539123024e-07"/>
  </inertial>
  <visual>
    <origin rpy="0 0 0" xyz="-0.074112 -0.070498 -0.077616"/>
    <geometry>
      <mesh filename="package://quadruped_description/meshes/leg_parallel_plate_v12.stl" scale="0.001 0.001 0.001"/>
    </geometry>
    <material name="silver"/>
    <material/>
  </visual>
  <collision>
    <origin rpy="0 0 3.926990817" xyz="-0.141144233 -0.128464845 -0.011004222"/>
    <geometry>
      <box size="0.024137 0.003188 0.036414"/>
    </geometry>
  </collision>
</link>

<link name="leg_parallel_linkage_v13">
  <inertial>
    <origin rpy="0 0 0" xyz="-0.011873654998673211 -0.16893275118996026 -5.574472008829101e-05"/>
    <mass value="0.00766074441602388"/>
    <inertia ixx="4.803493674771907e-07" ixy="4.181346777484406e-07" ixz="-2.4283040679366394e-09" iyy="4.80349367477123e-07" iyz="2.4283040679366394e-09" izz="8.492417488732305e-07"/>
  </inertial>
  <visual>
    <origin rpy="0 0 0" xyz="-0.09153 -0.089143 -0.077727"/>
    <geometry>
      <mesh filename="package://quadruped_description/meshes/leg_parallel_linkage_v13.stl" scale="0.001 0.001 0.001"/>
    </geometry>
    <material name="silver"/>
    <material/>
  </visual>
  <collision>
    <origin rpy="0 0 0" xyz="-0.09153 -0.089143 -0.077727"/>
    <geometry>
      <mesh filename="package://quadruped_description/meshes/leg_parallel_linkage_v13.stl" scale="0.001 0.001 0.001"/>
    </geometry>
  </collision>
</link>

<link name="leg_parallel_plate_v13">
  <inertial>
    <origin rpy="0 0 0" xyz="-0.012460318229685886 -0.13801701684758927 -0.008862222322955901"/>
    <mass value="0.014417433544657016"/>
    <inertia ixx="2.1697871012962757e-06" ixy="2.7613497882802323e-07" ixz="-1.8802402014868227e-07" iyy="2.1697871012962486e-06" iyz="1.8802402014866872e-07" izz="5.766838539123431e-07"/>
  </inertial>
  <visual>
    <origin rpy="0 0 0" xyz="-0.074112 -0.070498 -0.077616"/>
    <geometry>
      <mesh filename="package://quadruped_description/meshes/leg_parallel_plate_v13.stl" scale="0.001 0.001 0.001"/>
    </geometry>
    <material name="silver"/>
    <material/>
  </visual>
  <collision>
    <origin rpy="0 0 2.35619449" xyz="-0.010375918 -0.140101417 -0.011004222"/>
    <geometry>
      <box size="0.024137 0.003188 0.036414"/>
    </geometry>
  </collision>
</link>

<link name="leg_parallel_linkage_v14">
  <inertial>
    <origin rpy="0 0 0" xyz="-0.1689323698380672 -0.008534077172330193 -5.574471907779377e-05"/>
    <mass value="0.00766074441602388"/>
    <inertia ixx="4.803493674771772e-07" ixy="4.181346777484474e-07" ixz="2.428304067950192e-09" iyy="4.803493674771365e-07" iyz="-2.4283040679434157e-09" izz="8.492417488732169e-07"/>
  </inertial>
  <visual>
    <origin rpy="0 0 0" xyz="-0.089276 -0.091396 -0.077727"/>
    <geometry>
      <mesh filename="package://quadruped_description/meshes/leg_parallel_linkage_v14.stl" scale="0.001 0.001 0.001"/>
    </geometry>
    <material name="silver"/>
    <material/>
  </visual>
  <collision>
    <origin rpy="0 0 0" xyz="-0.089276 -0.091396 -0.077727"/>
    <geometry>
      <mesh filename="package://quadruped_description/meshes/leg_parallel_linkage_v14.stl" scale="0.001 0.001 0.001"/>
    </geometry>
  </collision>
</link>

<link name="leg_parallel_plate_v14">
  <inertial>
    <origin rpy="0 0 0" xyz="-0.13576370660705767 9.318848530222301e-05 -0.00886222232295586"/>
    <mass value="0.014417433544657016"/>
    <inertia ixx="2.1697871012962486e-06" ixy="2.761349788280097e-07" ixz="1.8802402014866872e-07" iyy="2.16978710129633e-06" iyz="-1.8802402014866872e-07" izz="5.766838539122889e-07"/>
  </inertial>
  <visual>
    <origin rpy="0 0 0" xyz="-0.074112 -0.070498 -0.077616"/>
    <geometry>
      <mesh filename="package://quadruped_description/meshes/leg_parallel_plate_v14.stl" scale="0.001 0.001 0.001"/>
    </geometry>
    <material name="silver"/>
    <material/>
  </visual>
  <collision>
    <origin rpy="0 0 0" xyz="-0.074112 -0.070498 -0.077616"/>
    <geometry>
      <mesh filename="package://quadruped_description/meshes/leg_parallel_plate_v14.stl" scale="0.001 0.001 0.001"/>
    </geometry>
  </collision>
</link>

<joint name="Rigid1" type="fixed">
  <origin rpy="0 0 0" xyz="0.0 -0.041434 0.05924"/>
  <parent link="base_link"/>
  <child link="body_spacer_v11"/>
</joint>

<joint name="Rigid2" type="fixed">
  <origin rpy="0 0 0" xyz="0.0 -0.041434 0.05924"/>
  <parent link="base_link"/>
  <child link="body_spacer_v12"/>
</joint>

<joint name="Rigid3" type="fixed">
  <origin rpy="0 0 0" xyz="0.0 -0.041434 0.05924"/>
  <parent link="base_link"/>
  <child link="body_spacer_v13"/>
</joint>

<joint name="Rigid4" type="fixed">
  <origin rpy="0 0 0" xyz="0.0 -0.041434 0.05924"/>
  <parent link="base_link"/>
  <child link="body_spacer_v14"/>
</joint>

<joint name="Rigid5" type="fixed">
  <origin rpy="0 0 0" xyz="-1e-05 0.001603 0.073902"/>
  <parent link="base_link"/>
  <child link="body_top_plate_v11"/>
</joint>

<joint name="Rigid6" type="fixed">
  <origin rpy="0 0 0" xyz="0.045406 0.047003 0.088004"/>
  <parent link="base_link"/>
  <child link="servo_motor_v11"/>
</joint>

<joint name="Rigid7" type="fixed">
  <origin rpy="0 0 0" xyz="0.045406 0.047003 0.088004"/>
  <parent link="base_link"/>
  <child link="servo_motor_v12"/>
</joint>

<joint name="Rigid8" type="fixed">
  <origin rpy="0 0 0" xyz="0.045406 0.047003 0.088004"/>
  <parent link="base_link"/>
  <child link="servo_motor_v13"/>
</joint>

<joint name="Rigid9" type="fixed">
  <origin rpy="0 0 0" xyz="0.045406 0.047003 0.088004"/>
  <parent link="base_link"/>
  <child link="servo_motor_v14"/>
</joint>

<joint name="Rigid10" type="fixed">
  <origin rpy="0 0 0" xyz="-0.012081 -0.012081 -0.00932"/>
  <parent link="servo_motor_v11"/>
  <child link="leg_servo_retainer_v11"/>
</joint>

<joint name="Rigid11" type="fixed">
  <origin rpy="0 0 0" xyz="-0.012081 -0.012081 -0.00932"/>
  <parent link="servo_motor_v12"/>
  <child link="leg_servo_retainer_v12"/>
</joint>

<joint name="Rigid12" type="fixed">
  <origin rpy="0 0 0" xyz="-0.012081 -0.012081 -0.00932"/>
  <parent link="servo_motor_v13"/>
  <child link="leg_servo_retainer_v13"/>
</joint>

<joint name="Rigid13" type="fixed">
  <origin rpy="0 0 0" xyz="-0.012081 -0.012081 -0.00932"/>
  <parent link="servo_motor_v14"/>
  <child link="leg_servo_retainer_v14"/>
</joint>

<joint name="Rev14" type="continuous">
  <origin rpy="0 0 0" xyz="0.0 0.0 0.0"/>
  <parent link="servo_motor_v11"/>
  <child link="leg_top_pivot_plate_v11"/>
  <axis xyz="0.0 -0.0 1.0"/>
</joint>
<transmission name="Rev14_tran">
  <type>transmission_interface/SimpleTransmission</type>
  <joint name="Rev14">
    <hardwareInterface>PositionJointInterface</hardwareInterface>
  </joint>
  <actuator name="Rev14_actr">
    <hardwareInterface>PositionJointInterface</hardwareInterface>
    <mechanicalReduction>1</mechanicalReduction>
  </actuator>
</transmission>

<joint name="Rev15" type="continuous">
  <origin rpy="0 0 0" xyz="0.0 0.0 0.0"/>
  <parent link="servo_motor_v12"/>
  <child link="leg_top_pivot_plate_v12"/>
  <axis xyz="-0.0 -0.0 1.0"/>
</joint>
<transmission name="Rev15_tran">
  <type>transmission_interface/SimpleTransmission</type>
  <joint name="Rev15">
    <hardwareInterface>PositionJointInterface</hardwareInterface>
  </joint>
  <actuator name="Rev15_actr">
    <hardwareInterface>PositionJointInterface</hardwareInterface>
    <mechanicalReduction>1</mechanicalReduction>
  </actuator>
</transmission>

<joint name="Rev16" type="continuous">
  <origin rpy="0 0 0" xyz="0.0 0.0 0.0"/>
  <parent link="servo_motor_v13"/>
  <child link="leg_top_pivot_plate_v13"/>
  <axis xyz="0.0 -0.0 1.0"/>
</joint>
<transmission name="Rev16_tran">
  <type>transmission_interface/SimpleTransmission</type>
  <joint name="Rev16">
    <hardwareInterface>PositionJointInterface</hardwareInterface>
  </joint>
  <actuator name="Rev16_actr">
    <hardwareInterface>PositionJointInterface</hardwareInterface>
    <mechanicalReduction>1</mechanicalReduction>
  </actuator>
</transmission>

<joint name="Rev17" type="continuous">
  <origin rpy="0 0 0" xyz="0.0 0.0 0.0"/>
  <parent link="servo_motor_v14"/>
  <child link="leg_top_pivot_plate_v14"/>
  <axis xyz="0.0 -0.0 1.0"/>
</joint>
<transmission name="Rev17_tran">
  <type>transmission_interface/SimpleTransmission</type>
  <joint name="Rev17">
    <hardwareInterface>PositionJointInterface</hardwareInterface>
  </joint>
  <actuator name="Rev17_actr">
    <hardwareInterface>PositionJointInterface</hardwareInterface>
    <mechanicalReduction>1</mechanicalReduction>
  </actuator>
</transmission>

<joint name="Rigid18" type="fixed">
  <origin rpy="0 0 0" xyz="0.012883 0.02208 -0.011475"/>
  <parent link="leg_top_pivot_plate_v11"/>
  <child link="leg_servo_mount_v11"/>
</joint>

<joint name="Rigid19" type="fixed">
  <origin rpy="0 0 0" xyz="0.012883 0.02208 -0.011475"/>
  <parent link="leg_top_pivot_plate_v12"/>
  <child link="leg_servo_mount_v12"/>
</joint>

<joint name="Rigid20" type="fixed">
  <origin rpy="0 0 0" xyz="0.012883 0.02208 -0.011475"/>
  <parent link="leg_top_pivot_plate_v13"/>
  <child link="leg_servo_mount_v13"/>
</joint>

<joint name="Rigid21" type="fixed">
  <origin rpy="0 0 0" xyz="0.012883 0.02208 -0.011475"/>
  <parent link="leg_top_pivot_plate_v14"/>
  <child link="leg_servo_mount_v14"/>
</joint>

<joint name="Rigid22" type="fixed">
  <origin rpy="0 0 0" xyz="-0.024964 -0.034161 0.002155"/>
  <parent link="leg_servo_mount_v11"/>
  <child link="servo_motor_v15"/>
</joint>

<joint name="Rigid23" type="fixed">
  <origin rpy="0 0 0" xyz="-0.024964 -0.034161 0.002155"/>
  <parent link="leg_servo_mount_v12"/>
  <child link="servo_motor_v16"/>
</joint>

<joint name="Rigid24" type="fixed">
  <origin rpy="0 0 0" xyz="-0.024964 -0.034161 0.002155"/>
  <parent link="leg_servo_mount_v13"/>
  <child link="servo_motor_v17"/>
</joint>

<joint name="Rigid25" type="fixed">
  <origin rpy="0 0 0" xyz="-0.024964 -0.034161 0.002155"/>
  <parent link="leg_servo_mount_v14"/>
  <child link="servo_motor_v18"/>
</joint>

<joint name="Rev26" type="continuous">
  <origin rpy="0 0 0" xyz="0.040174 0.036189 -0.018807"/>
  <parent link="servo_motor_v15"/>
  <child link="leg_servo_arm_v11"/>
  <axis xyz="0.707107 -0.707107 -0.0"/>
</joint>
<transmission name="Rev26_tran">
  <type>transmission_interface/SimpleTransmission</type>
  <joint name="Rev26">
    <hardwareInterface>PositionJointInterface</hardwareInterface>
  </joint>
  <actuator name="Rev26_actr">
    <hardwareInterface>PositionJointInterface</hardwareInterface>
    <mechanicalReduction>1</mechanicalReduction>
  </actuator>
</transmission>

<joint name="Rev27" type="continuous">
  <origin rpy="0 0 0" xyz="0.03792 0.038443 -0.018807"/>
  <parent link="servo_motor_v16"/>
  <child link="leg_servo_arm_v12"/>
  <axis xyz="-0.707107 0.707107 0.0"/>
</joint>
<transmission name="Rev27_tran">
  <type>transmission_interface/SimpleTransmission</type>
  <joint name="Rev27">
    <hardwareInterface>PositionJointInterface</hardwareInterface>
  </joint>
  <actuator name="Rev27_actr">
    <hardwareInterface>PositionJointInterface</hardwareInterface>
    <mechanicalReduction>1</mechanicalReduction>
  </actuator>
</transmission>

<joint name="Rev28" type="continuous">
  <origin rpy="0 0 0" xyz="0.03792 0.038443 -0.018807"/>
  <parent link="servo_motor_v17"/>
  <child link="leg_servo_arm_v13"/>
  <axis xyz="-0.707107 -0.707107 0.0"/>
</joint>
<transmission name="Rev28_tran">
  <type>transmission_interface/SimpleTransmission</type>
  <joint name="Rev28">
    <hardwareInterface>PositionJointInterface</hardwareInterface>
  </joint>
  <actuator name="Rev28_actr">
    <hardwareInterface>PositionJointInterface</hardwareInterface>
    <mechanicalReduction>1</mechanicalReduction>
  </actuator>
</transmission>

<joint name="Rev29" type="continuous">
  <origin rpy="0 0 0" xyz="0.040174 0.036189 -0.018807"/>
  <parent link="servo_motor_v18"/>
  <child link="leg_servo_arm_v14"/>
  <axis xyz="0.707107 0.707107 -0.0"/>
</joint>
<transmission name="Rev29_tran">
  <type>transmission_interface/SimpleTransmission</type>
  <joint name="Rev29">
    <hardwareInterface>PositionJointInterface</hardwareInterface>
  </joint>
  <actuator name="Rev29_actr">
    <hardwareInterface>PositionJointInterface</hardwareInterface>
    <mechanicalReduction>1</mechanicalReduction>
  </actuator>
</transmission>

<joint name="Rev30" type="continuous">
  <origin rpy="0 0 0" xyz="0.018031 0.018031 0.0"/>
  <parent link="leg_servo_arm_v11"/>
  <child link="leg_rev_v11"/>
  <axis xyz="-0.707107 0.707107 0.0"/>
</joint>
<transmission name="Rev30_tran">
  <type>transmission_interface/SimpleTransmission</type>
  <joint name="Rev30">
    <hardwareInterface>PositionJointInterface</hardwareInterface>
  </joint>
  <actuator name="Rev30_actr">
    <hardwareInterface>PositionJointInterface</hardwareInterface>
    <mechanicalReduction>1</mechanicalReduction>
  </actuator>
</transmission>

<joint name="Rev31" type="continuous">
  <origin rpy="0 0 0" xyz="0.020285 0.015777 0.0"/>
  <parent link="leg_servo_arm_v12"/>
  <child link="leg_rev_v12"/>
  <axis xyz="-0.707107 0.707107 0.0"/>
</joint>
<transmission name="Rev31_tran">
  <type>transmission_interface/SimpleTransmission</type>
  <joint name="Rev31">
    <hardwareInterface>PositionJointInterface</hardwareInterface>
  </joint>
  <actuator name="Rev31_actr">
    <hardwareInterface>PositionJointInterface</hardwareInterface>
    <mechanicalReduction>1</mechanicalReduction>
  </actuator>
</transmission>

<joint name="Rev32" type="continuous">
  <origin rpy="0 0 0" xyz="0.020285 0.015777 0.0"/>
  <parent link="leg_servo_arm_v13"/>
  <child link="leg_rev_v13"/>
  <axis xyz="-0.707107 -0.707107 0.0"/>
</joint>
<transmission name="Rev32_tran">
  <type>transmission_interface/SimpleTransmission</type>
  <joint name="Rev32">
    <hardwareInterface>PositionJointInterface</hardwareInterface>
  </joint>
  <actuator name="Rev32_actr">
    <hardwareInterface>PositionJointInterface</hardwareInterface>
    <mechanicalReduction>1</mechanicalReduction>
  </actuator>
</transmission>

<joint name="Rev33" type="continuous">
  <origin rpy="0 0 0" xyz="0.018031 0.018031 0.0"/>
  <parent link="leg_servo_arm_v14"/>
  <child link="leg_rev_v14"/>
  <axis xyz="-0.707107 -0.707107 0.0"/>
</joint>
<transmission name="Rev33_tran">
  <type>transmission_interface/SimpleTransmission</type>
  <joint name="Rev33">
    <hardwareInterface>PositionJointInterface</hardwareInterface>
  </joint>
  <actuator name="Rev33_actr">
    <hardwareInterface>PositionJointInterface</hardwareInterface>
    <mechanicalReduction>1</mechanicalReduction>
  </actuator>
</transmission>

<joint name="Rev34" type="continuous">
  <origin rpy="0 0 0" xyz="0.045406 0.047003 0.048402"/>
  <parent link="base_link"/>
  <child link="bottom_pivot_plate_v11"/>
  <axis xyz="-0.0 -0.0 1.0"/>
</joint>
<transmission name="Rev34_tran">
  <type>transmission_interface/SimpleTransmission</type>
  <joint name="Rev34">
    <hardwareInterface>PositionJointInterface</hardwareInterface>
  </joint>
  <actuator name="Rev34_actr">
    <hardwareInterface>PositionJointInterface</hardwareInterface>
    <mechanicalReduction>1</mechanicalReduction>
  </actuator>
</transmission>

<joint name="Rev35" type="continuous">
  <origin rpy="0 0 0" xyz="0.045406 0.047003 0.048402"/>
  <parent link="base_link"/>
  <child link="bottom_pivot_plate_v12"/>
  <axis xyz="-0.0 -0.0 1.0"/>
</joint>
<transmission name="Rev35_tran">
  <type>transmission_interface/SimpleTransmission</type>
  <joint name="Rev35">
    <hardwareInterface>PositionJointInterface</hardwareInterface>
  </joint>
  <actuator name="Rev35_actr">
    <hardwareInterface>PositionJointInterface</hardwareInterface>
    <mechanicalReduction>1</mechanicalReduction>
  </actuator>
</transmission>

<joint name="Rev36" type="continuous">
  <origin rpy="0 0 0" xyz="0.045406 0.047003 0.048402"/>
  <parent link="base_link"/>
  <child link="bottom_pivot_plate_v13"/>
  <axis xyz="-0.0 -0.0 1.0"/>
</joint>
<transmission name="Rev36_tran">
  <type>transmission_interface/SimpleTransmission</type>
  <joint name="Rev36">
    <hardwareInterface>PositionJointInterface</hardwareInterface>
  </joint>
  <actuator name="Rev36_actr">
    <hardwareInterface>PositionJointInterface</hardwareInterface>
    <mechanicalReduction>1</mechanicalReduction>
  </actuator>
</transmission>

<joint name="Rev37" type="continuous">
  <origin rpy="0 0 0" xyz="0.045406 0.047003 0.048402"/>
  <parent link="base_link"/>
  <child link="bottom_pivot_plate_v14"/>
  <axis xyz="-0.0 -0.0 1.0"/>
</joint>
<transmission name="Rev37_tran">
  <type>transmission_interface/SimpleTransmission</type>
  <joint name="Rev37">
    <hardwareInterface>PositionJointInterface</hardwareInterface>
  </joint>
  <actuator name="Rev37_actr">
    <hardwareInterface>PositionJointInterface</hardwareInterface>
    <mechanicalReduction>1</mechanicalReduction>
  </actuator>
</transmission>

<joint name="Rev42" type="continuous">
  <origin rpy="0 0 0" xyz="0.0 1e-06 0.01785"/>
  <parent link="leg_rev_v11"/>
  <child link="leg_parallel_linkage_v11"/>
  <axis xyz="0.707107 -0.707107 -0.0"/>
</joint>
<transmission name="Rev42_tran">
  <type>transmission_interface/SimpleTransmission</type>
  <joint name="Rev42">
    <hardwareInterface>PositionJointInterface</hardwareInterface>
  </joint>
  <actuator name="Rev42_actr">
    <hardwareInterface>PositionJointInterface</hardwareInterface>
    <mechanicalReduction>1</mechanicalReduction>
  </actuator>
</transmission>

<joint name="Rev43" type="continuous">
  <origin rpy="0 0 0" xyz="-0.017418 -0.018645 -0.000111"/>
  <parent link="leg_parallel_linkage_v11"/>
  <child link="leg_parallel_plate_v11"/>
  <axis xyz="0.707107 -0.707107 -0.0"/>
</joint>
<transmission name="Rev43_tran">
  <type>transmission_interface/SimpleTransmission</type>
  <joint name="Rev43">
    <hardwareInterface>PositionJointInterface</hardwareInterface>
  </joint>
  <actuator name="Rev43_actr">
    <hardwareInterface>PositionJointInterface</hardwareInterface>
    <mechanicalReduction>1</mechanicalReduction>
  </actuator>
</transmission>

<joint name="Rev44" type="continuous">
  <origin rpy="0 0 0" xyz="-0.002254 0.002254 0.01785"/>
  <parent link="leg_rev_v12"/>
  <child link="leg_parallel_linkage_v12"/>
  <axis xyz="-0.707107 0.707107 0.0"/>
</joint>
<transmission name="Rev44_tran">
  <type>transmission_interface/SimpleTransmission</type>
  <joint name="Rev44">
    <hardwareInterface>PositionJointInterface</hardwareInterface>
  </joint>
  <actuator name="Rev44_actr">
    <hardwareInterface>PositionJointInterface</hardwareInterface>
    <mechanicalReduction>1</mechanicalReduction>
  </actuator>
</transmission>

<joint name="Rev45" type="continuous">
  <origin rpy="0 0 0" xyz="-0.015164 -0.020898 -0.000111"/>
  <parent link="leg_parallel_linkage_v12"/>
  <child link="leg_parallel_plate_v12"/>
  <axis xyz="0.707107 -0.707107 -0.0"/>
</joint>
<transmission name="Rev45_tran">
  <type>transmission_interface/SimpleTransmission</type>
  <joint name="Rev45">
    <hardwareInterface>PositionJointInterface</hardwareInterface>
  </joint>
  <actuator name="Rev45_actr">
    <hardwareInterface>PositionJointInterface</hardwareInterface>
    <mechanicalReduction>1</mechanicalReduction>
  </actuator>
</transmission>

<joint name="Rev46" type="continuous">
  <origin rpy="0 0 0" xyz="0.0 1e-06 0.01785"/>
  <parent link="leg_rev_v13"/>
  <child link="leg_parallel_linkage_v13"/>
  <axis xyz="-0.707107 -0.707107 0.0"/>
</joint>
<transmission name="Rev46_tran">
  <type>transmission_interface/SimpleTransmission</type>
  <joint name="Rev46">
    <hardwareInterface>PositionJointInterface</hardwareInterface>
  </joint>
  <actuator name="Rev46_actr">
    <hardwareInterface>PositionJointInterface</hardwareInterface>
    <mechanicalReduction>1</mechanicalReduction>
  </actuator>
</transmission>

<joint name="Rev47" type="continuous">
  <origin rpy="0 0 0" xyz="-0.017418 -0.018645 -0.000111"/>
  <parent link="leg_parallel_linkage_v13"/>
  <child link="leg_parallel_plate_v13"/>
  <axis xyz="-0.707107 -0.707107 0.0"/>
</joint>
<transmission name="Rev47_tran">
  <type>transmission_interface/SimpleTransmission</type>
  <joint name="Rev47">
    <hardwareInterface>PositionJointInterface</hardwareInterface>
  </joint>
  <actuator name="Rev47_actr">
    <hardwareInterface>PositionJointInterface</hardwareInterface>
    <mechanicalReduction>1</mechanicalReduction>
  </actuator>
</transmission>

<joint name="Rev48" type="continuous">
  <origin rpy="0 0 0" xyz="-0.002254 0.002254 0.01785"/>
  <parent link="leg_rev_v14"/>
  <child link="leg_parallel_linkage_v14"/>
  <axis xyz="0.707107 0.707107 -0.0"/>
</joint>
<transmission name="Rev48_tran">
  <type>transmission_interface/SimpleTransmission</type>
  <joint name="Rev48">
    <hardwareInterface>PositionJointInterface</hardwareInterface>
  </joint>
  <actuator name="Rev48_actr">
    <hardwareInterface>PositionJointInterface</hardwareInterface>
    <mechanicalReduction>1</mechanicalReduction>
  </actuator>
</transmission>

<joint name="Rev49" type="continuous">
  <origin rpy="0 0 0" xyz="-0.015164 -0.020898 -0.000111"/>
  <parent link="leg_parallel_linkage_v14"/>
  <child link="leg_parallel_plate_v14"/>
  <axis xyz="-0.707107 -0.707107 0.0"/>
</joint>
<transmission name="Rev49_tran">
  <type>transmission_interface/SimpleTransmission</type>
  <joint name="Rev49">
    <hardwareInterface>PositionJointInterface</hardwareInterface>
  </joint>
  <actuator name="Rev49_actr">
    <hardwareInterface>PositionJointInterface</hardwareInterface>
    <mechanicalReduction>1</mechanicalReduction>
  </actuator>
</transmission>

</robot>
